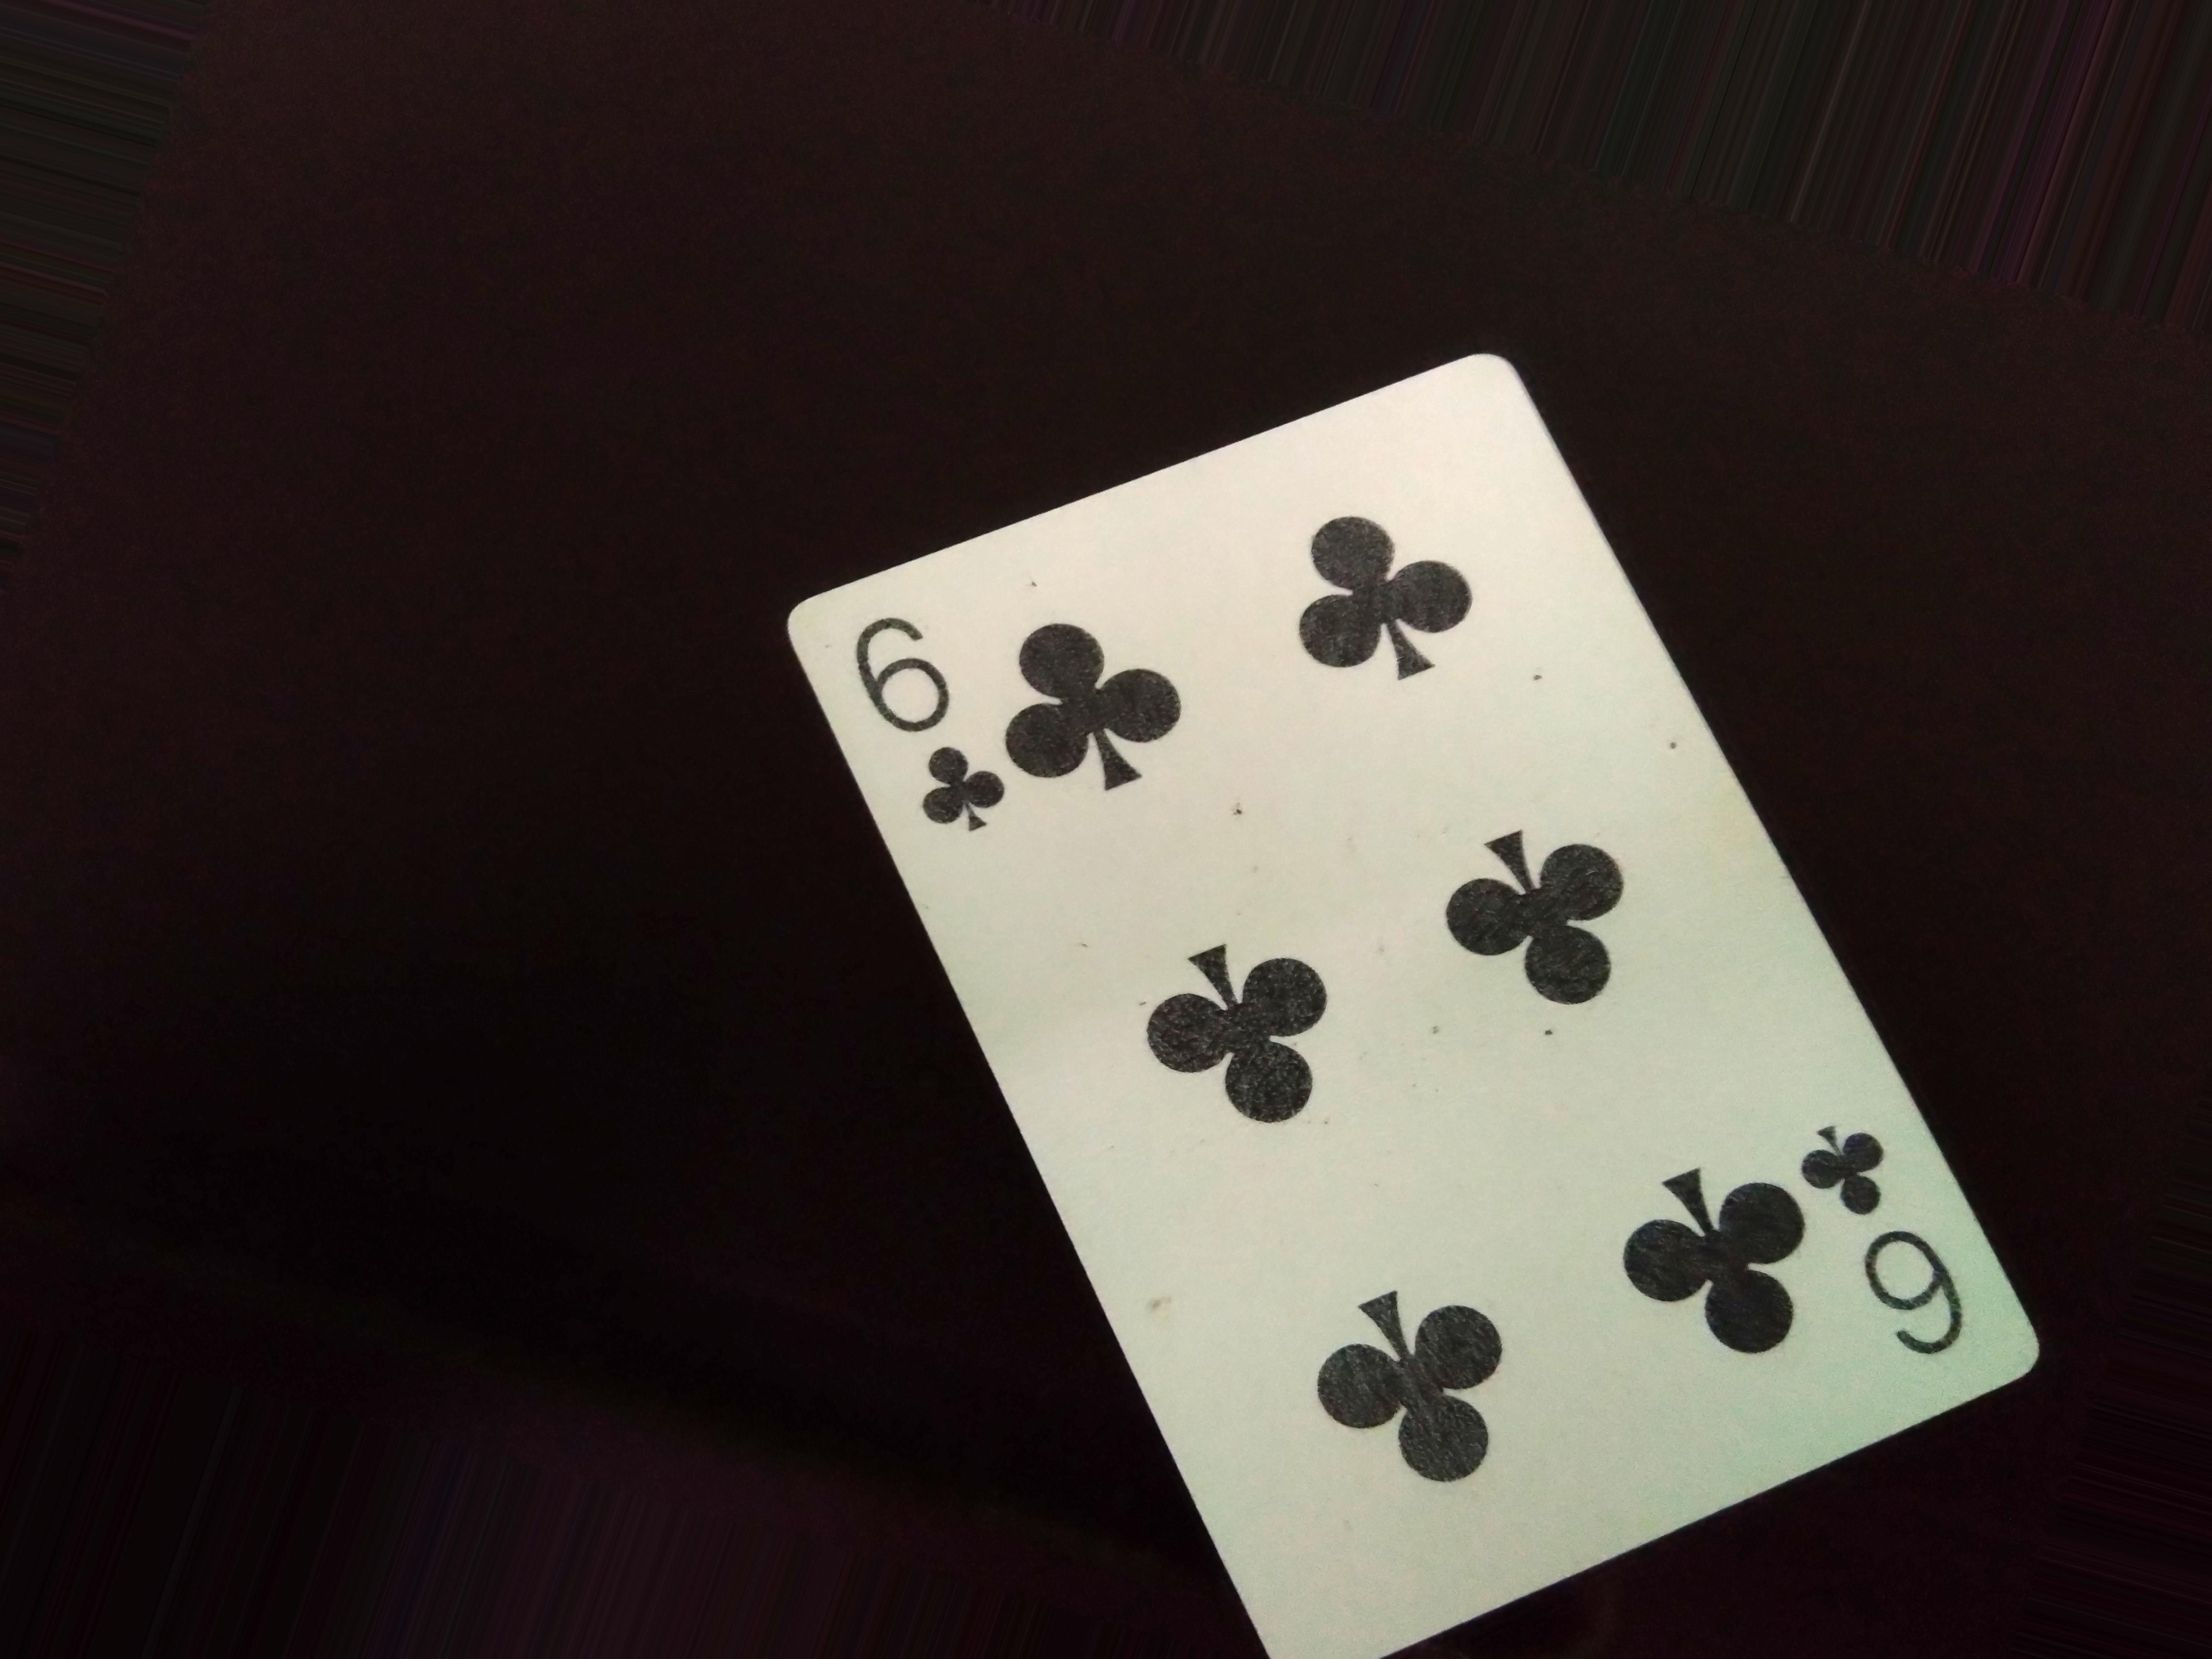6C: (840, 601, 1012, 857)
